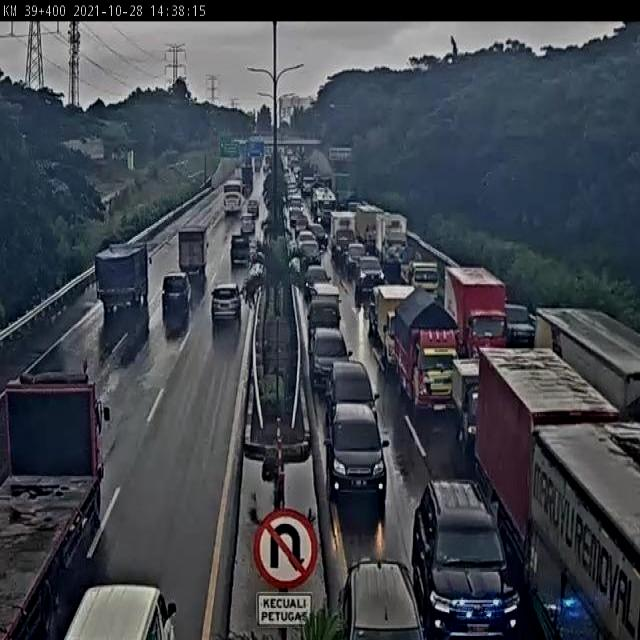Bus: (222, 179, 243, 214)
Car: (411, 475, 524, 640), (322, 403, 390, 507), (325, 360, 381, 426), (308, 328, 354, 393), (208, 283, 244, 322), (162, 272, 192, 313), (356, 253, 386, 289), (238, 213, 256, 236)
Truck: (474, 348, 640, 639), (0, 360, 111, 634), (536, 311, 638, 424), (386, 289, 462, 414), (443, 267, 515, 365), (94, 242, 148, 318), (371, 284, 414, 363), (398, 257, 442, 305), (354, 204, 385, 254), (377, 211, 408, 261), (178, 228, 209, 278), (329, 211, 357, 260), (229, 234, 252, 268)
